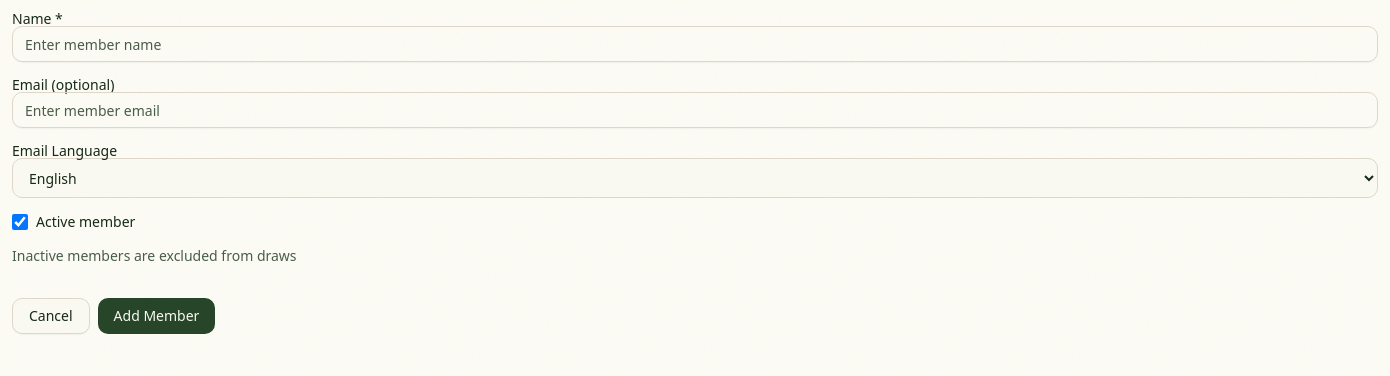
Test: MemberForm › Error Handling › displays name_conflict_in_group error
This screenshot has width=1390, height=376.
In the field labelled "Name *": (695, 44) [12,26,1378,62], type "Alice"
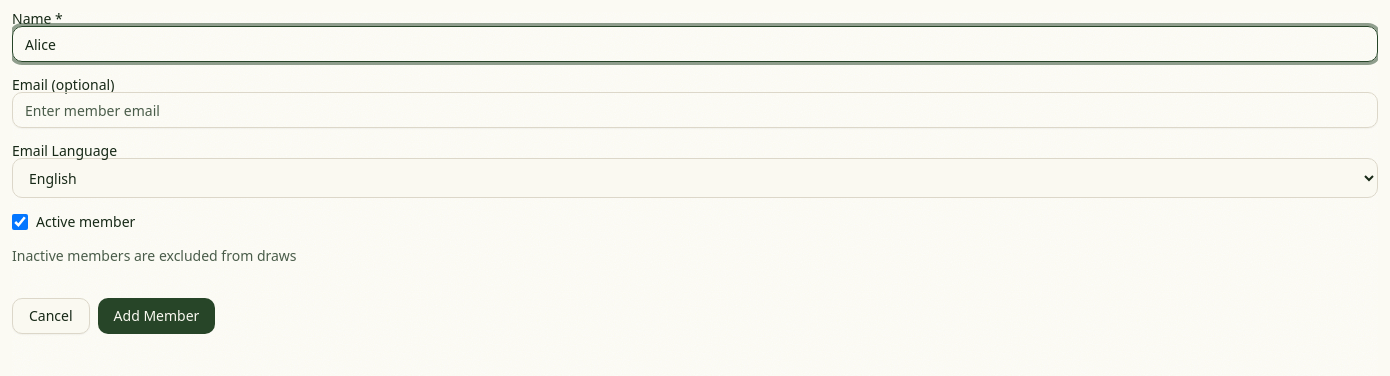
In the field labelled "Email (optional)": (695, 110) [12,92,1378,128], type "alice@example.com"
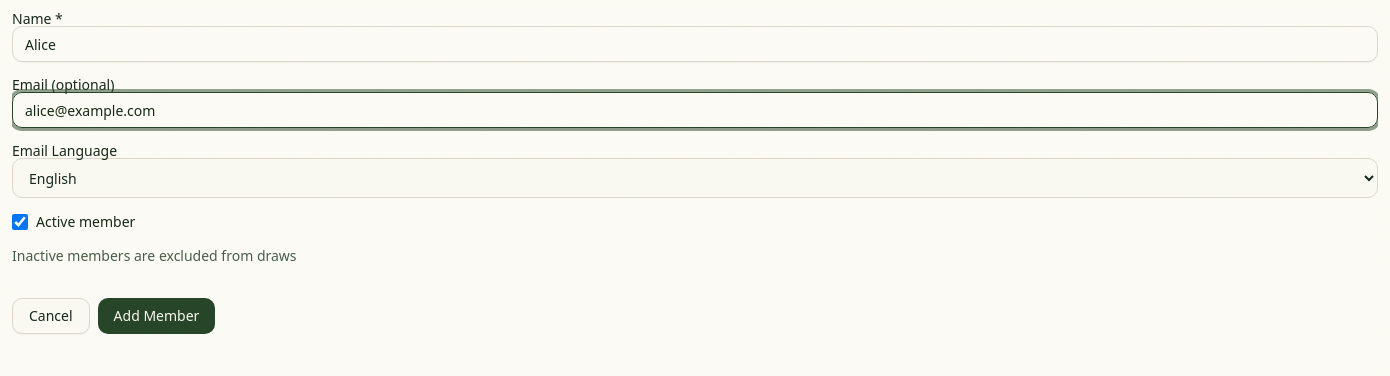
Click the button "Add Member": (156, 316) [98,298,215,334]
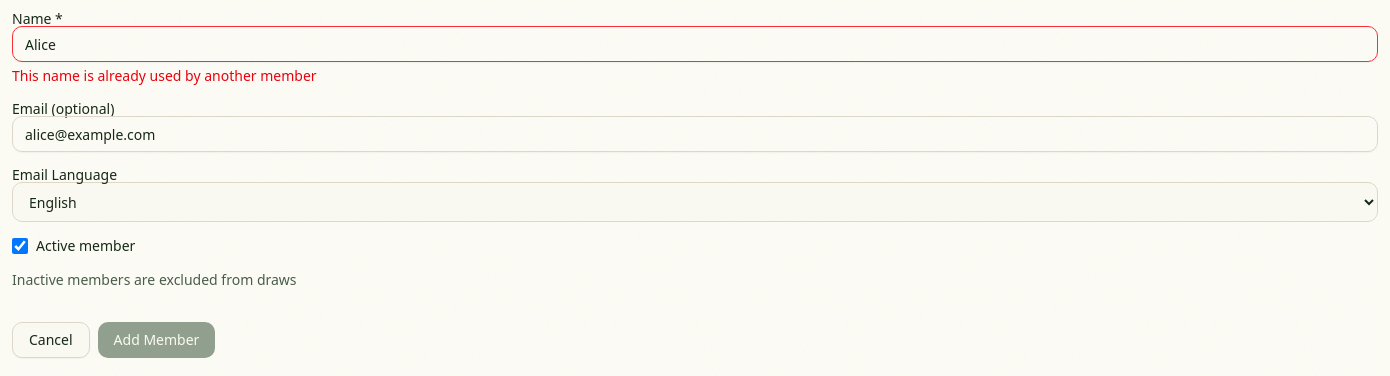
expect the text "This name is already used by another member" is shown: met, box [12,66,317,85]
